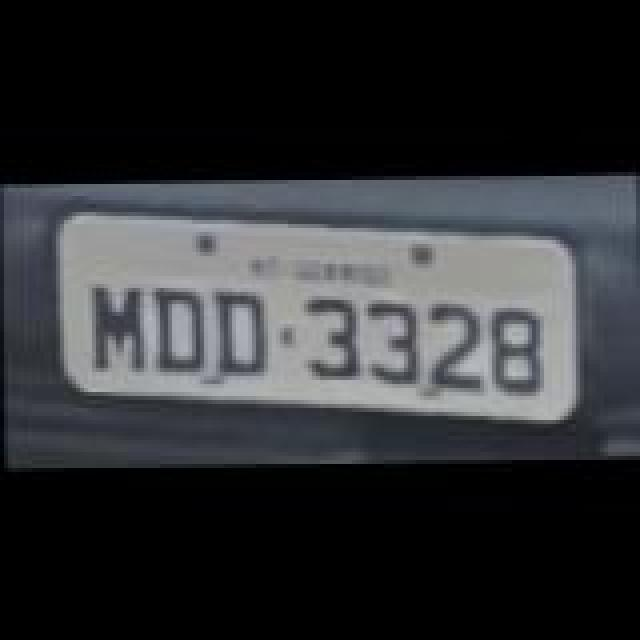2: (424, 298, 484, 386)
3: (368, 296, 428, 380), (300, 294, 360, 378)
8: (490, 302, 546, 394)
D: (152, 282, 212, 370), (214, 288, 270, 372)
M: (94, 284, 150, 372)
